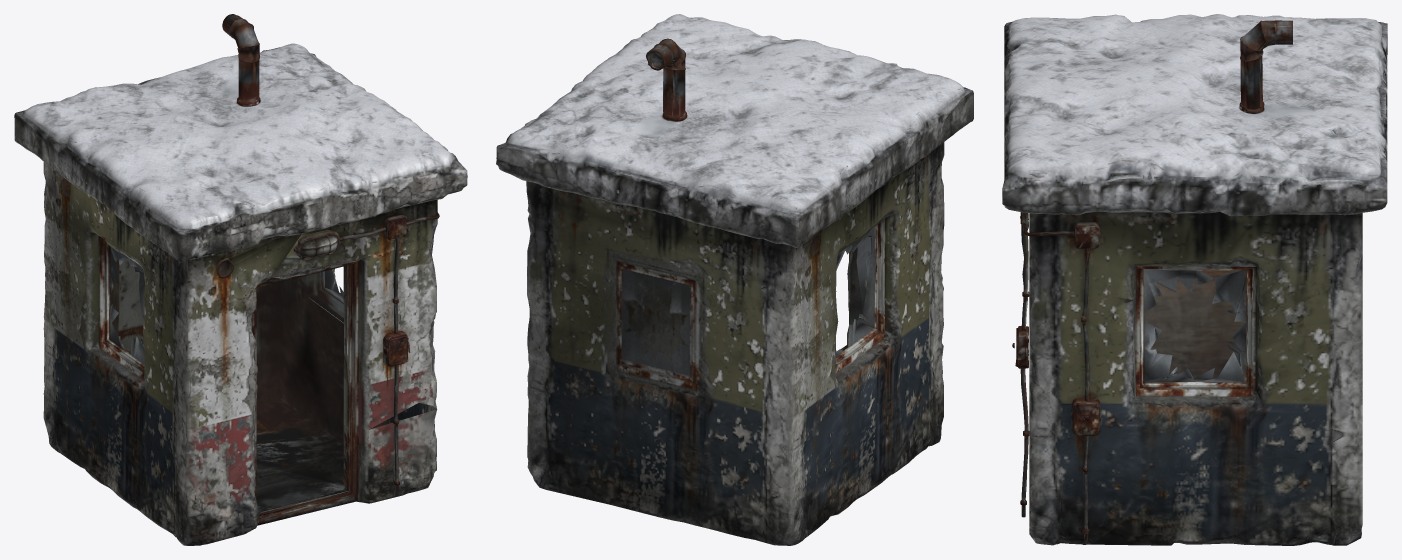
Rendered from road_guard_shack.glb.
3 views of the same model, side by side, from view 1: azimuth 30°, elevation 25°; view 2: azimuth 150°, elevation 25°; view 3: azimuth 270°, elevation 25° (orthographic). The views are drawn at different scales.
Size of the model in its own units: 0.6919 by 0.9512 by 0.6997.
Materials: 1 (1 with a texture image).
